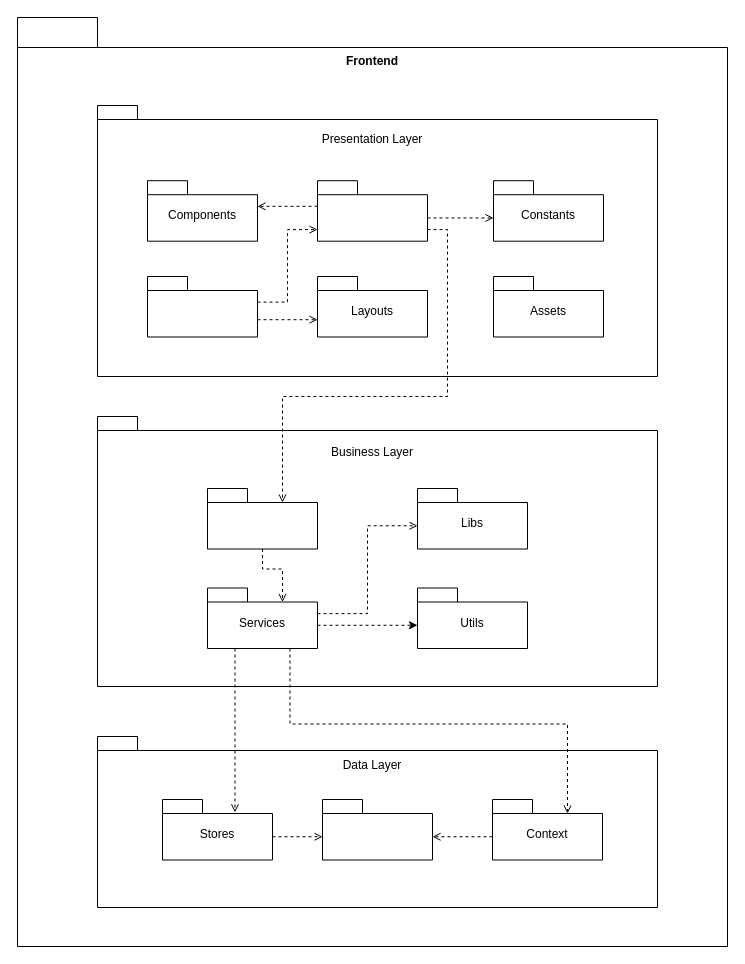
This 745x964 diagram has some shape labels left out. The shapes that lost their labels are listed below. From the top down, each one's centre as x and y in pixels, then its label:
the point at 372,210: Pages
the point at 202,306: Router
the point at 262,518: Hooks
the point at 377,829: Types
